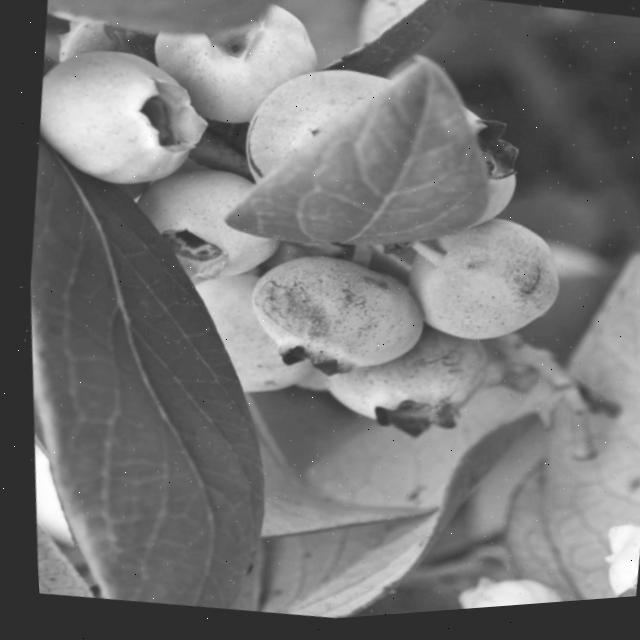Semi-RipeBlueBerry: (225, 230, 437, 400), (386, 199, 575, 370)
UnripeBlueBerry: (22, 26, 219, 205)
